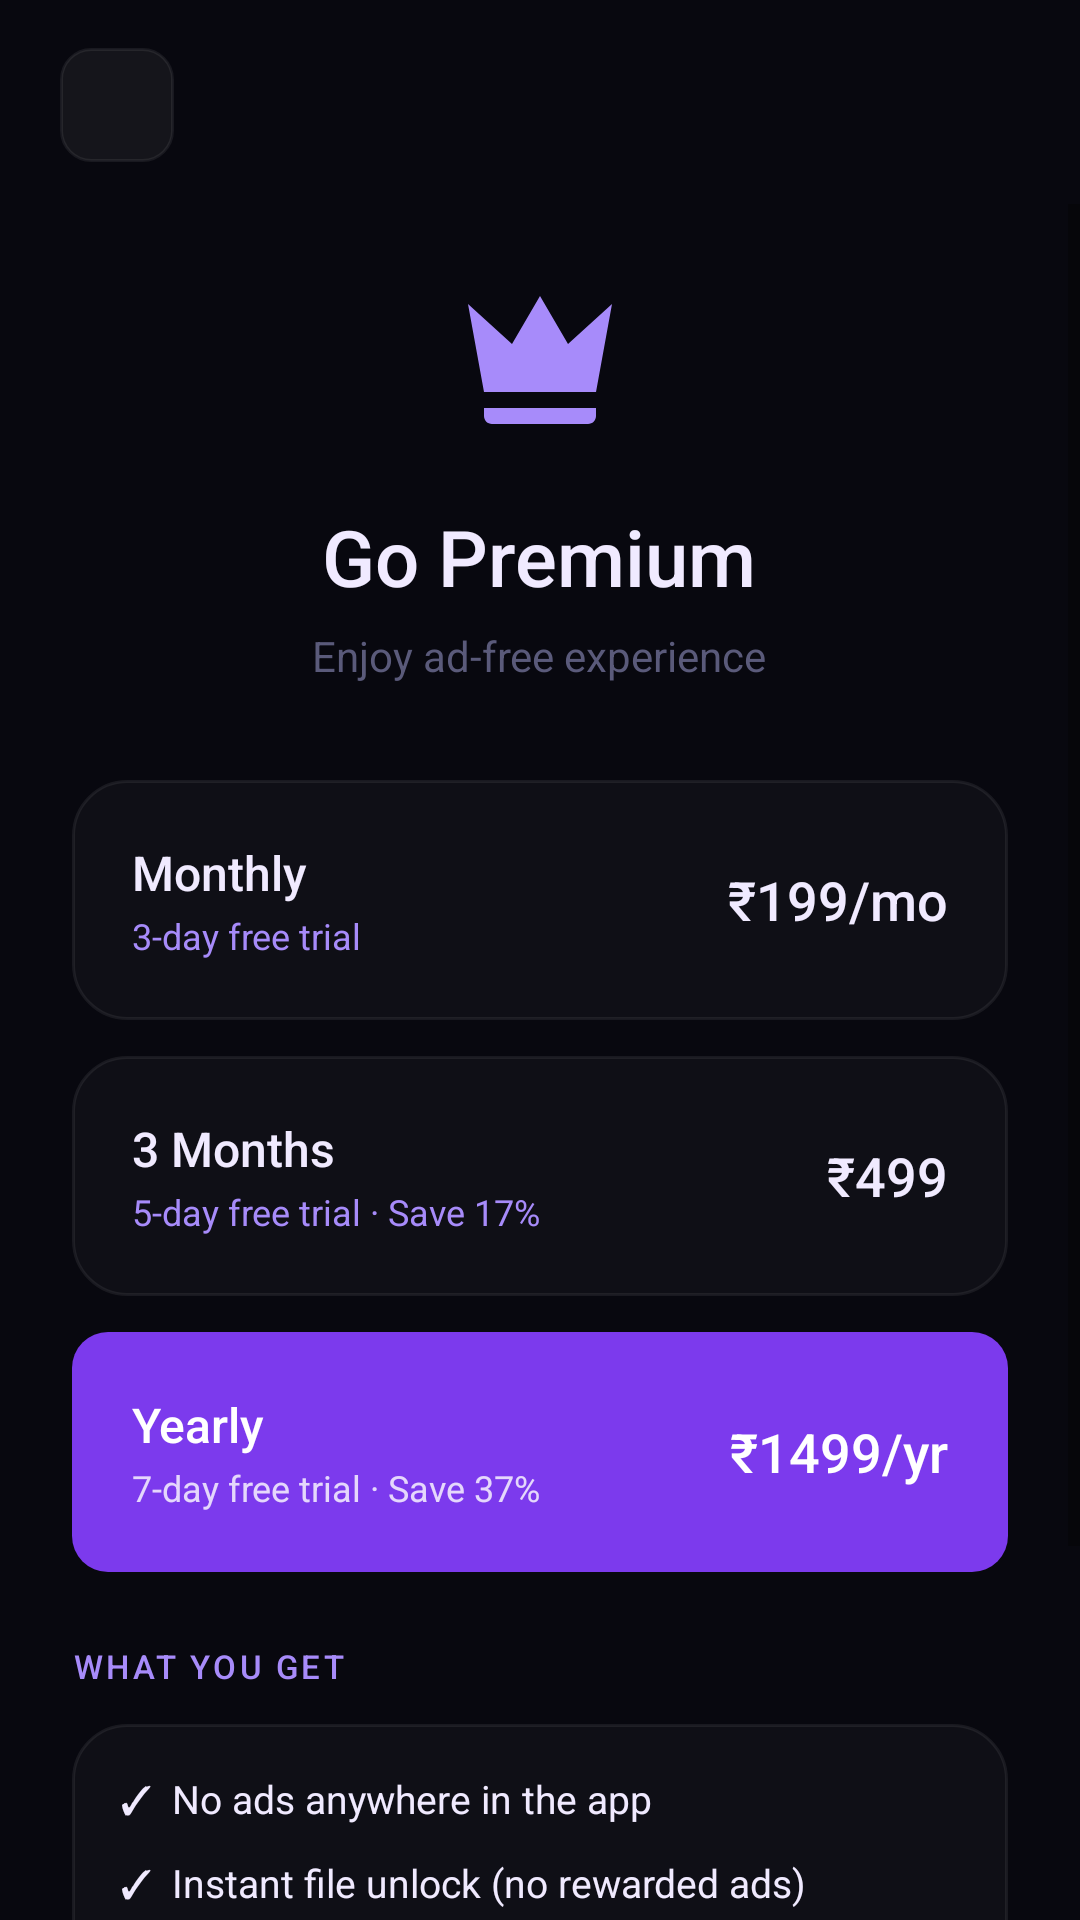

Screen size 1080px x 1920px. Icon name, then its box in pixels as (x1, y1, x2, y2):
crown: (468, 296, 612, 424)
